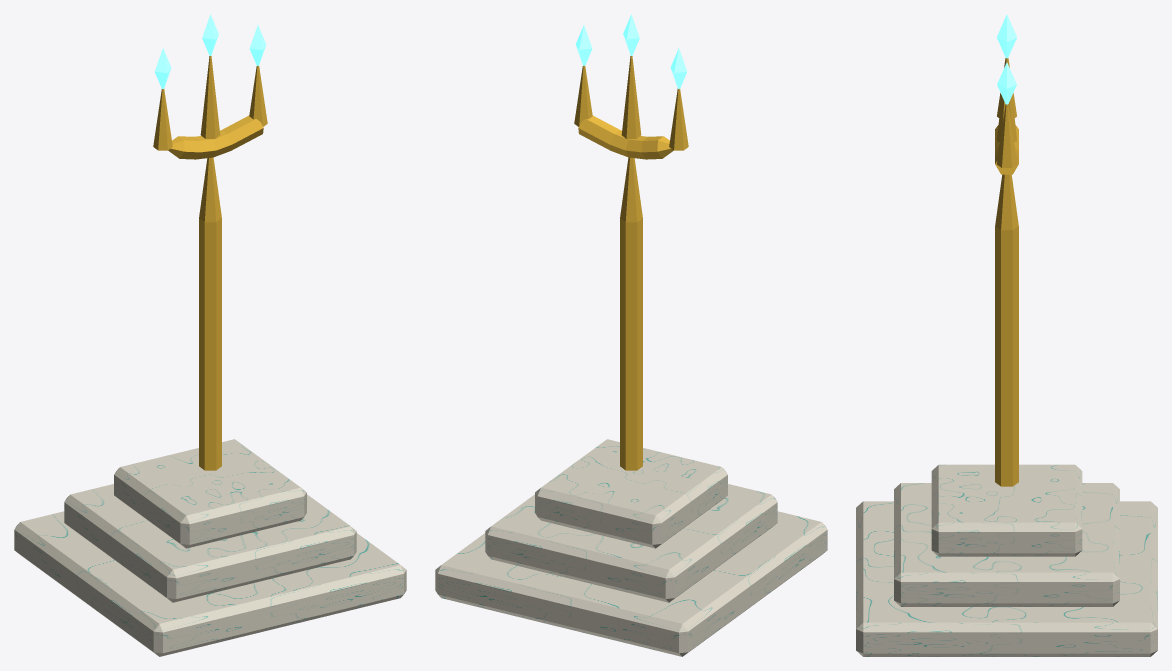
File: TridentAltar.fbx
3 renders of one model, left to right at view 1: azimuth 30°, elevation 25°; view 2: azimuth 150°, elevation 25°; view 3: azimuth 270°, elevation 25°, orthographic. The views are drawn at different scales.
Parts seen in each view (by area): view 1: TridentAltar, TridentAltar_Glow; view 2: TridentAltar, TridentAltar_Glow; view 3: TridentAltar, TridentAltar_Glow.
Boxes of the visible parts, x1,y1,x2,y2 form: TridentAltar: (14, 56, 406, 656); TridentAltar_Glow: (154, 14, 266, 88); TridentAltar: (435, 56, 827, 656); TridentAltar_Glow: (575, 14, 687, 88); TridentAltar: (856, 58, 1157, 656); TridentAltar_Glow: (997, 14, 1016, 104).
Bounding box in the file's own units: 240 × 510 × 240.
Materials: 2 (1 with a texture image).
